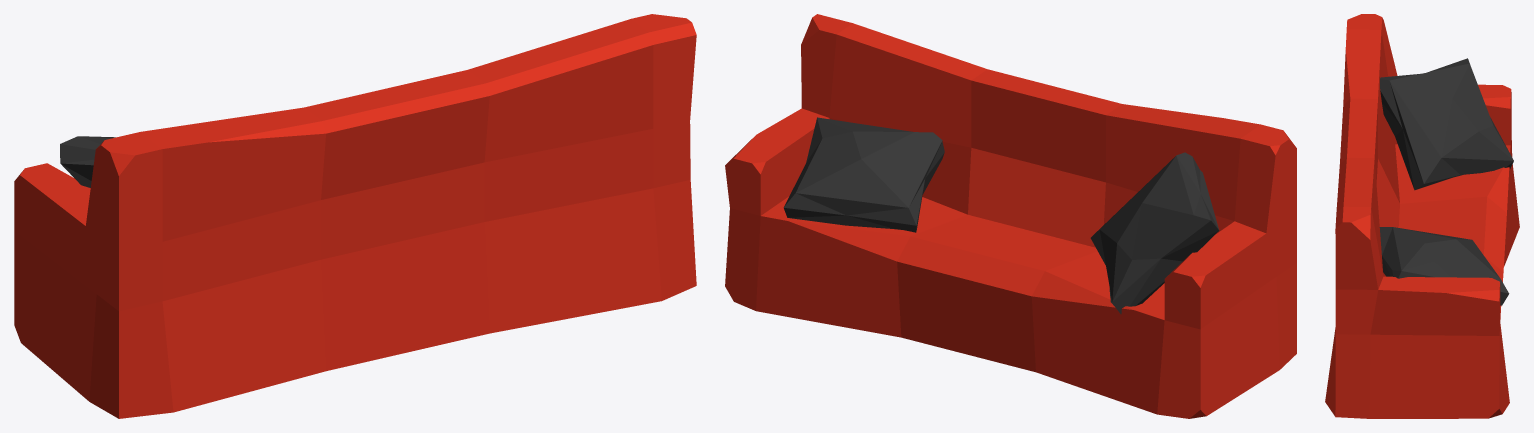
Rendered from red_sofa_1.glb.
3 renders of one model, left to right at view 1: azimuth 30°, elevation 25°; view 2: azimuth 150°, elevation 25°; view 3: azimuth 270°, elevation 25°, orthographic. The views are drawn at different scales.
Visible parts, largest first — view 1: Sofa, Cube; view 2: Sofa, Cube.001, Cube; view 3: Sofa, Cube, Cube.001.
Part boxes in pixels (x1,y1,x2,y2): Sofa: (14,14,696,418); Cube: (60,136,115,187); Sofa: (725,14,1296,418); Cube.001: (783,117,944,232); Cube: (1090,152,1219,314); Sofa: (1325,14,1519,418); Cube: (1380,58,1513,190); Cube.001: (1379,227,1509,305).
Bounding box in the file's own units: 5.15 × 2.21 × 2.
